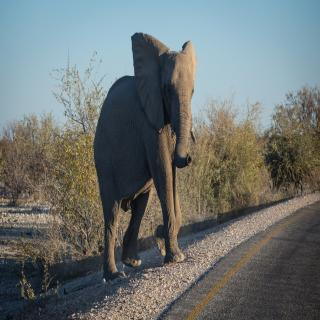Elephant: (88, 28, 200, 281)
